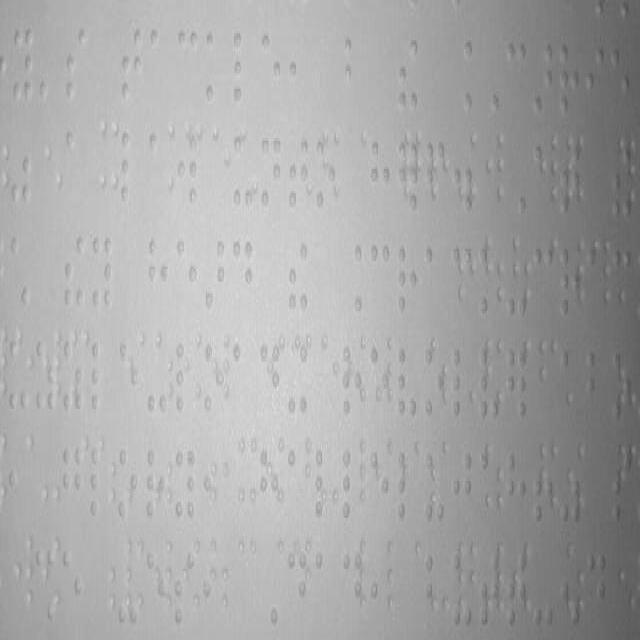braiile: (10, 22, 36, 111), (259, 132, 285, 219), (230, 232, 256, 319), (64, 126, 90, 212), (62, 542, 86, 631), (63, 21, 89, 103), (120, 24, 146, 106), (557, 37, 583, 119), (608, 39, 634, 121), (505, 441, 529, 528), (148, 24, 174, 104), (148, 128, 172, 214), (314, 548, 338, 634), (286, 548, 310, 634), (370, 133, 394, 218), (287, 131, 311, 216), (61, 440, 85, 524), (586, 544, 608, 634), (203, 26, 227, 108), (342, 30, 366, 112), (505, 39, 529, 121), (584, 344, 608, 426), (88, 441, 112, 523), (145, 235, 169, 316), (175, 234, 198, 318), (584, 40, 608, 120), (120, 126, 144, 206), (90, 234, 114, 314), (367, 240, 391, 320), (396, 344, 420, 424), (232, 340, 256, 420), (89, 338, 113, 418), (7, 336, 31, 416), (232, 27, 256, 106), (341, 550, 364, 632), (176, 134, 200, 212), (532, 243, 556, 321), (232, 134, 255, 214), (451, 446, 474, 526), (177, 27, 200, 106), (260, 28, 282, 110), (559, 244, 581, 326), (451, 346, 474, 424), (396, 240, 418, 320), (424, 342, 446, 422), (174, 442, 196, 522), (341, 447, 364, 522), (423, 241, 445, 319), (586, 244, 606, 329), (286, 446, 306, 526)
